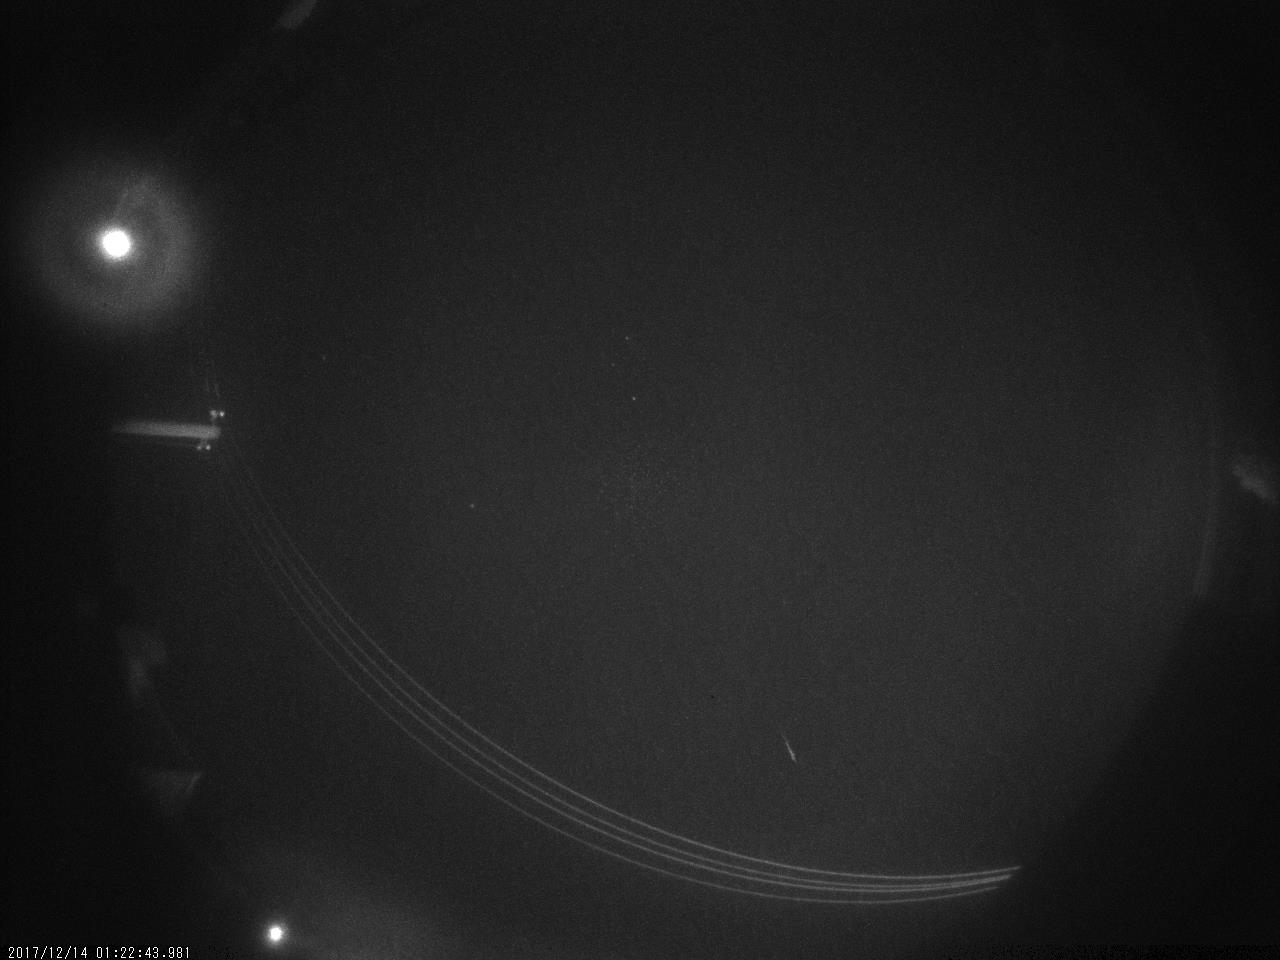meteor: (770, 714, 805, 772)
